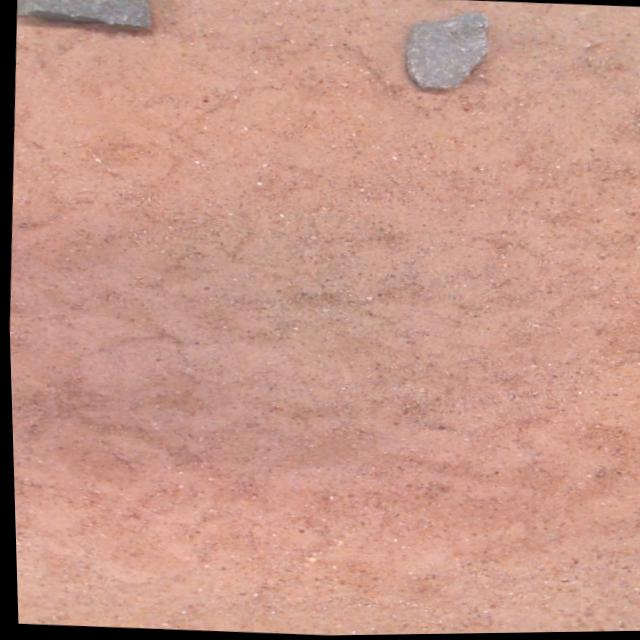rock: (406, 15, 487, 90), (16, 0, 151, 29)
